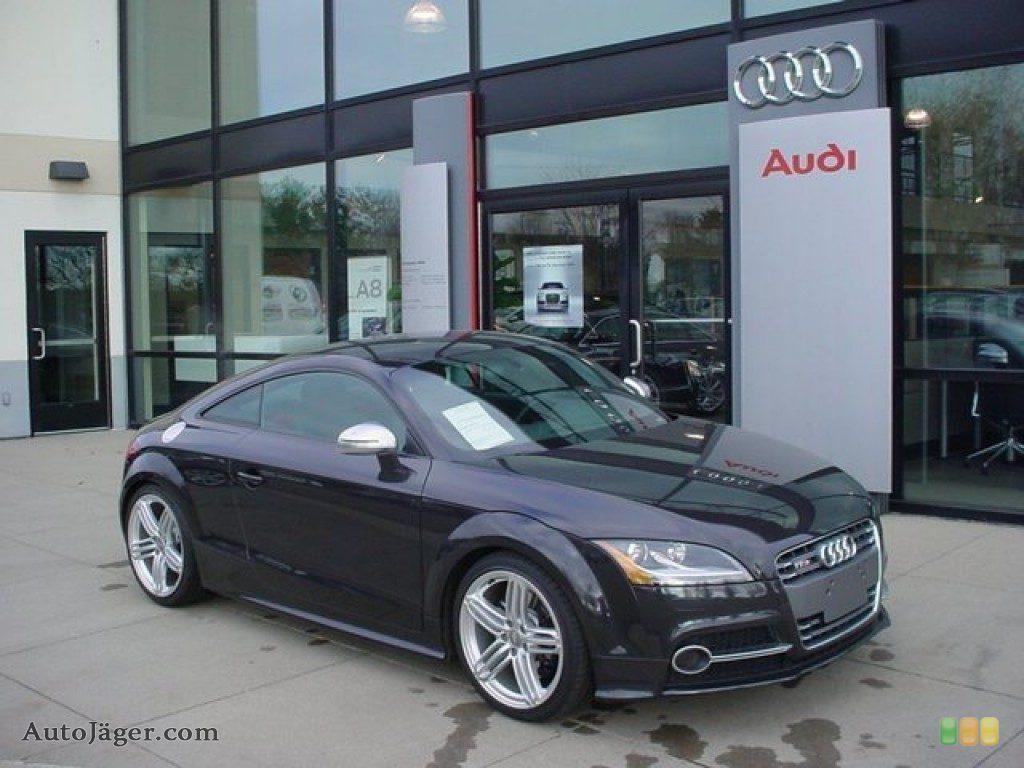Audi: (717, 29, 879, 120), (811, 524, 866, 575)
